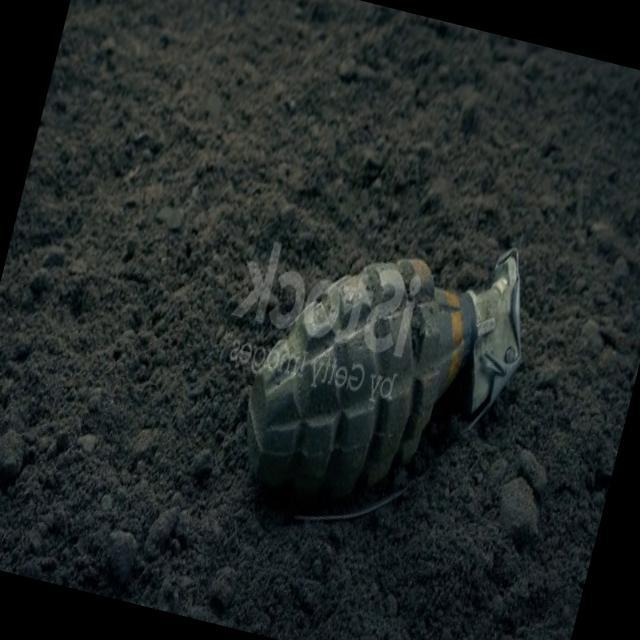grenade: (216, 188, 547, 570)
